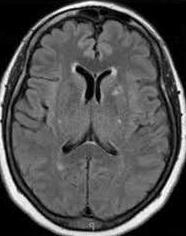Normal_Brain: (1, 1, 186, 236)
